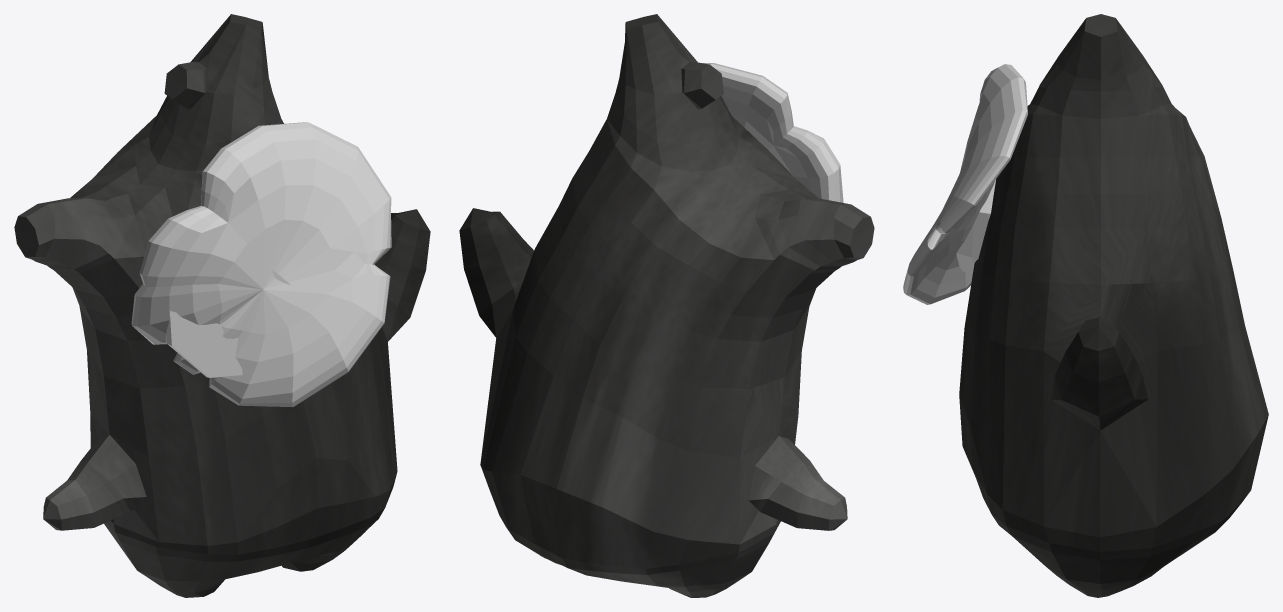
File: frame_0024.obj
The picture shows the model from 3 angles, left to right: view 1: azimuth 30°, elevation 25°; view 2: azimuth 150°, elevation 25°; view 3: azimuth 270°, elevation 25°; orthographic projection. The views are drawn at different scales.
Visible parts, largest first — view 1: korok, leaf, nose; view 2: korok, leaf; view 3: korok, leaf, nose.
Boxes of the visible parts, box(x1,y1,x2,y2) form: korok: box(14, 14, 430, 597); leaf: box(131, 122, 391, 406); nose: box(165, 269, 290, 377); korok: box(459, 14, 874, 597); leaf: box(702, 63, 843, 202); korok: box(959, 14, 1268, 597); leaf: box(903, 64, 1027, 304); nose: box(956, 179, 995, 273).
Bounding box in the file's own units: 1.69 × 2.27 × 1.38.
